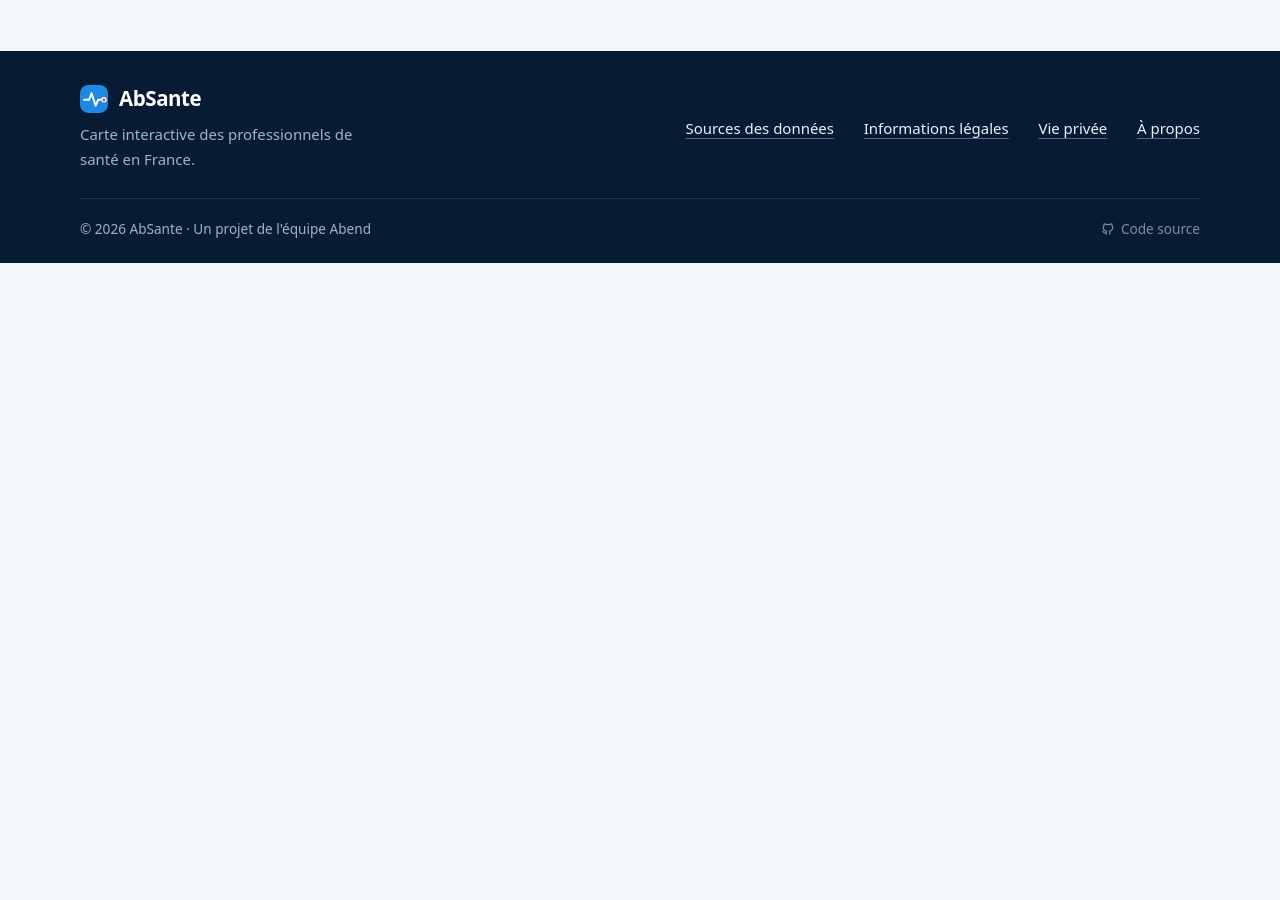
SiteFooter › « Sources des données » ouvre sa fenêtre de détail, et elle seule
Click the button "Sources des données" at point(760, 129), box [686,116,834,142]
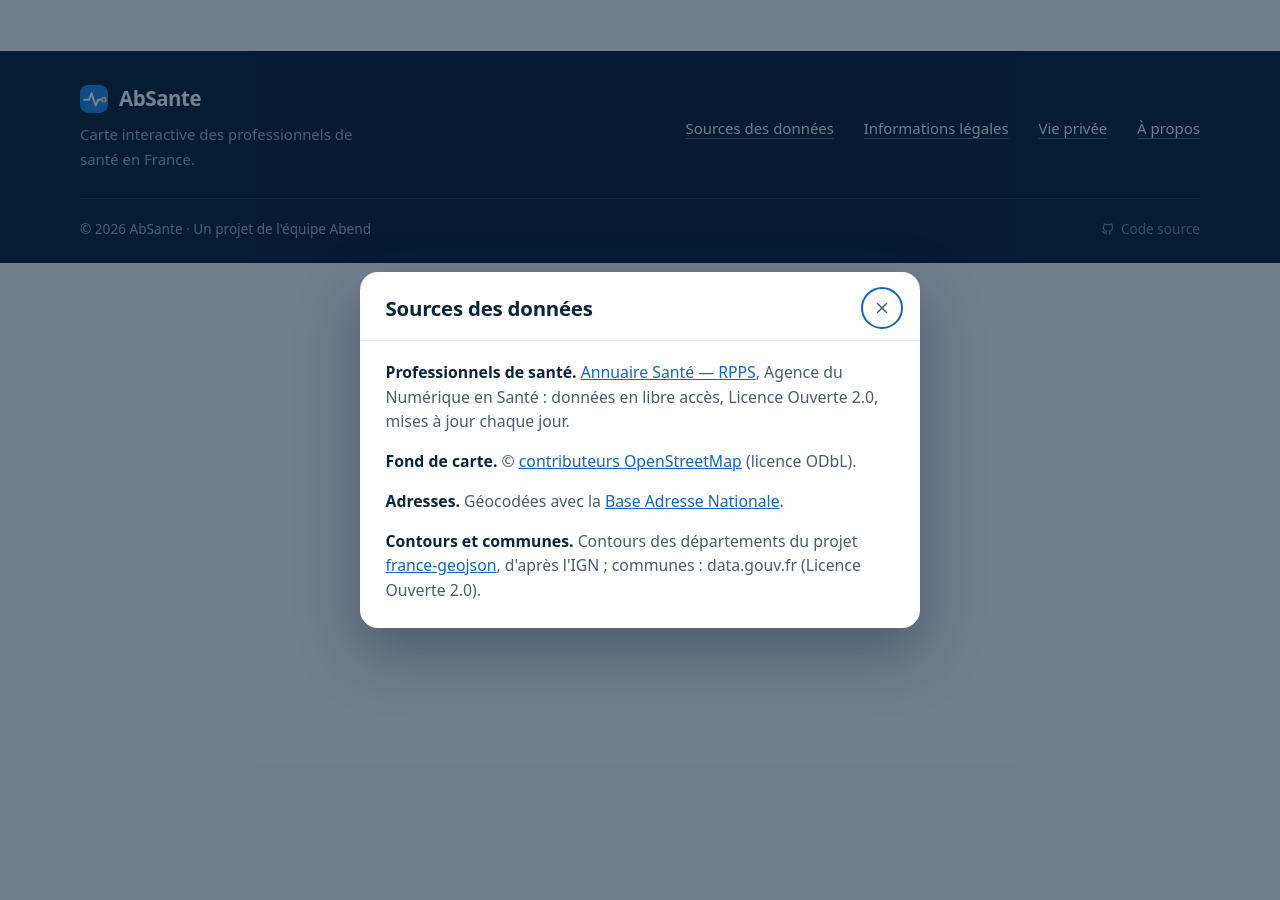
Now the heading "Sources des données" is shown, box [386,296,593,320]
